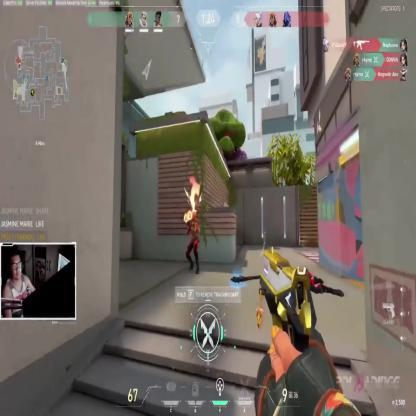enemy: (184, 212, 202, 275)
enemy_head: (191, 212, 196, 222)
